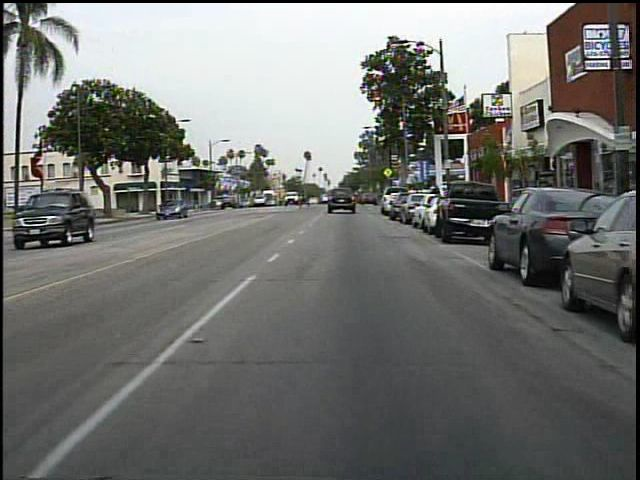person: (428, 180, 448, 218), (299, 185, 313, 213)
